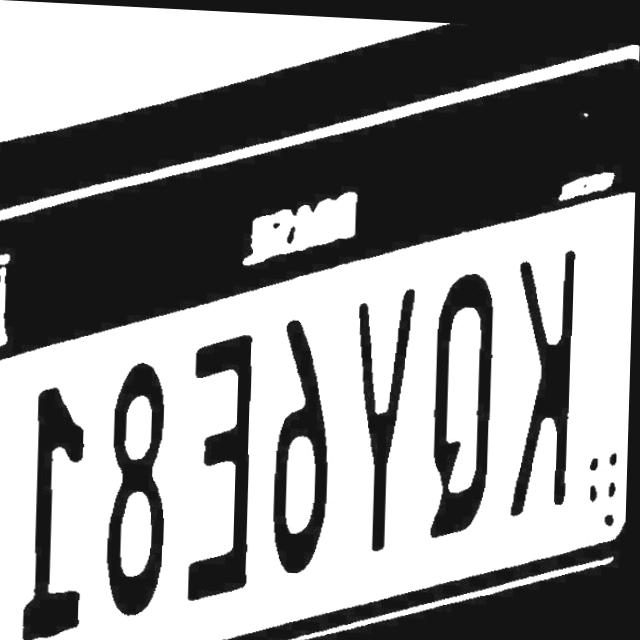1: (17, 381, 98, 640)
6: (265, 312, 341, 581)
8: (97, 356, 181, 632)
e: (181, 329, 268, 604)
k: (503, 226, 586, 519)
q: (421, 253, 503, 544)
y: (344, 279, 419, 560)
